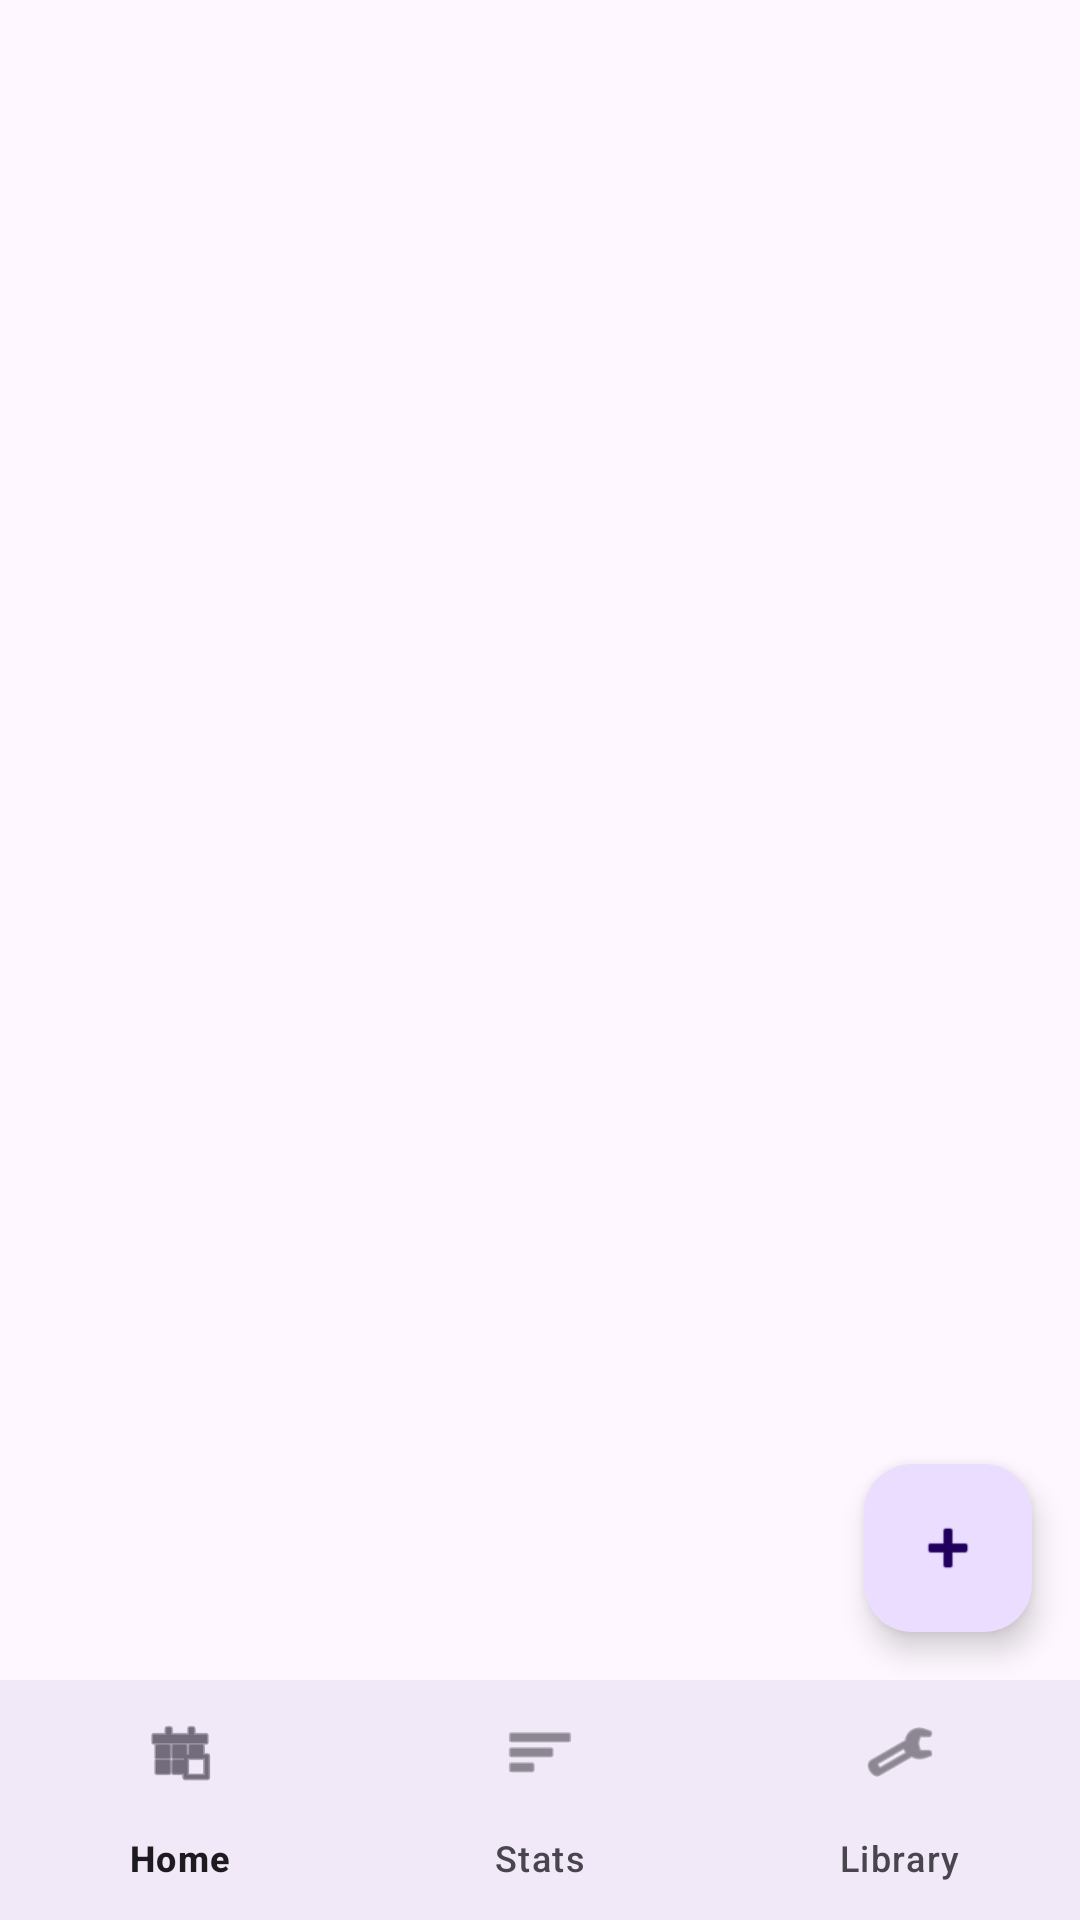

Screen size 1080px×1920px. Icon name, then its box in pixels as (x1, y1, x2, y2):
Add New: (864, 1464, 1032, 1632)
